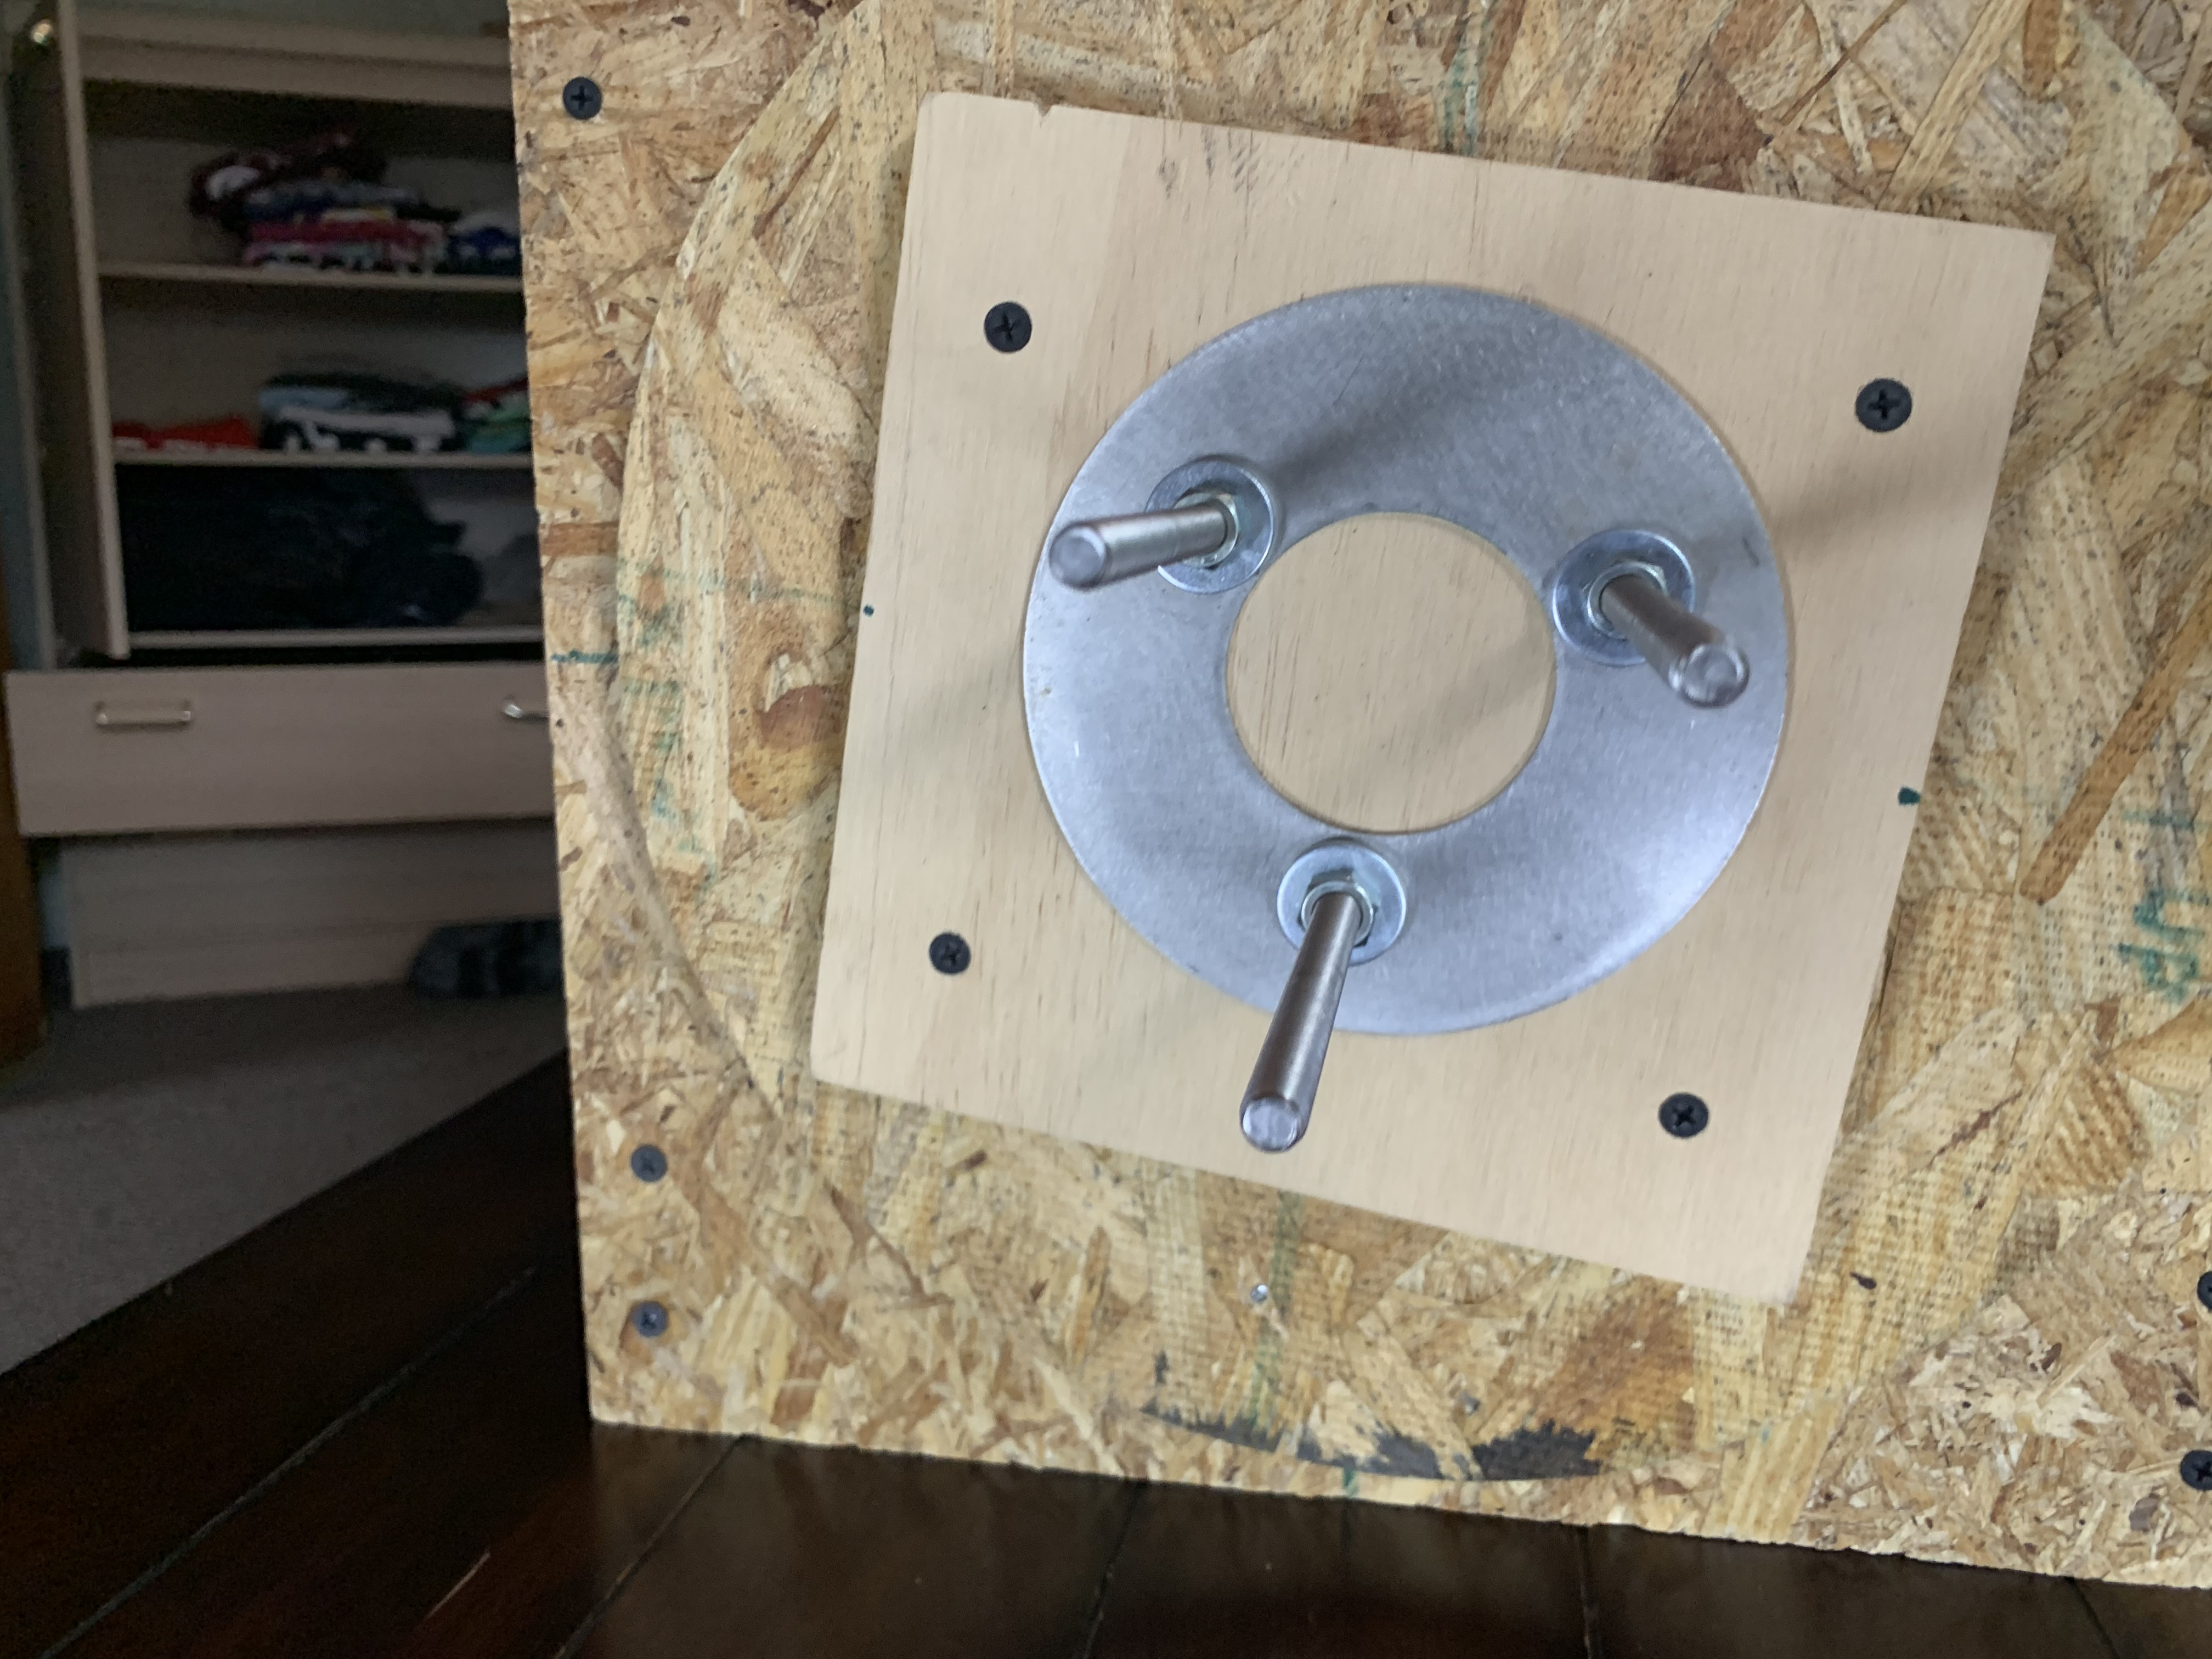bolt: (1550, 525, 1703, 667), (1144, 455, 1284, 596), (1270, 835, 1411, 965)
